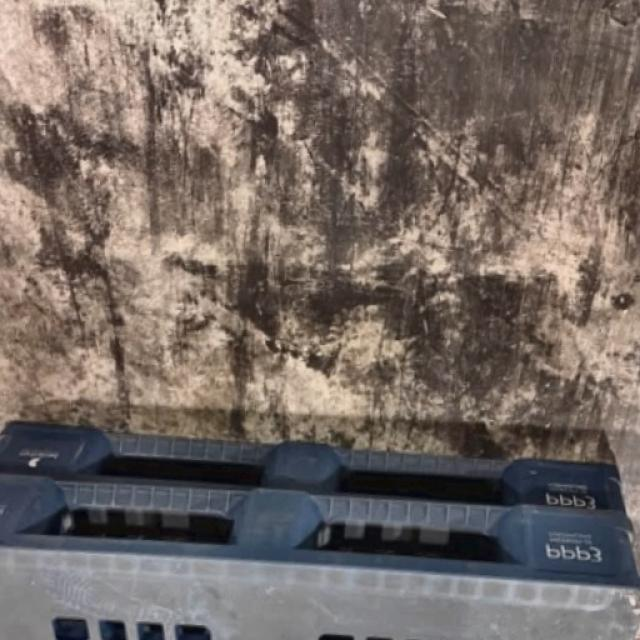non-igps: (0, 416, 640, 640)
